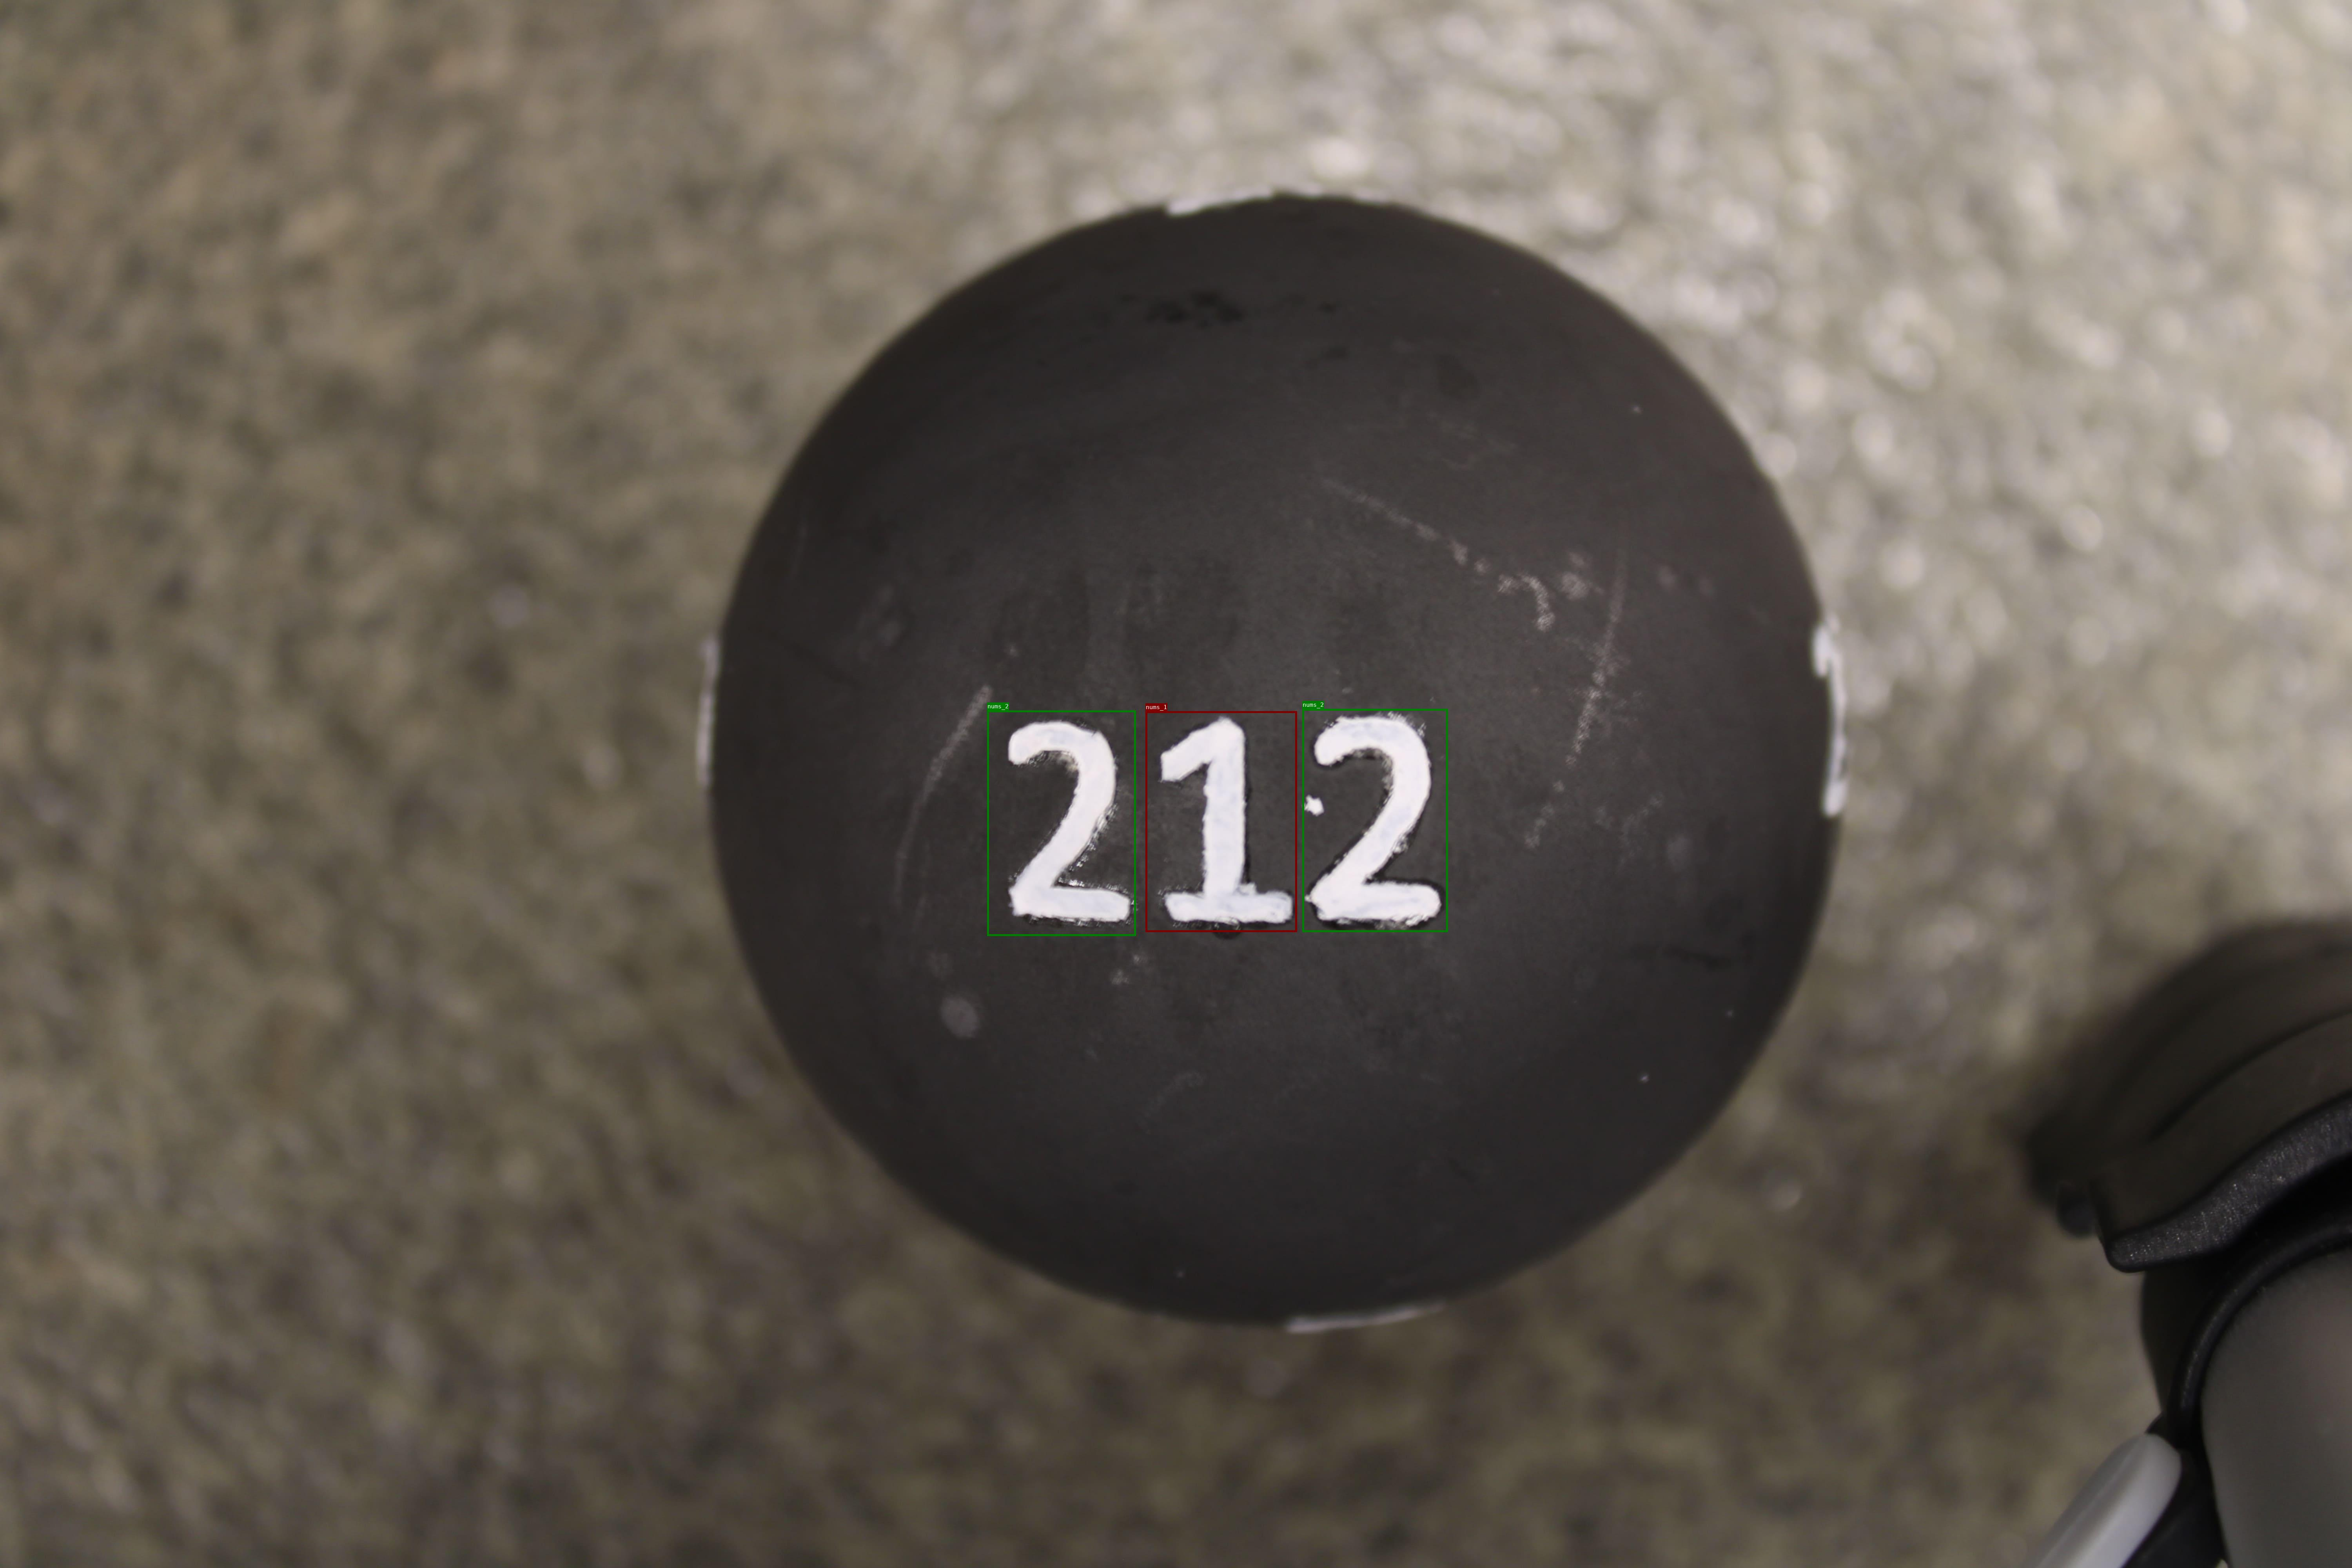nums_1: (1146, 710, 1297, 931)
nums_2: (987, 710, 1136, 936), (1302, 709, 1447, 931)
